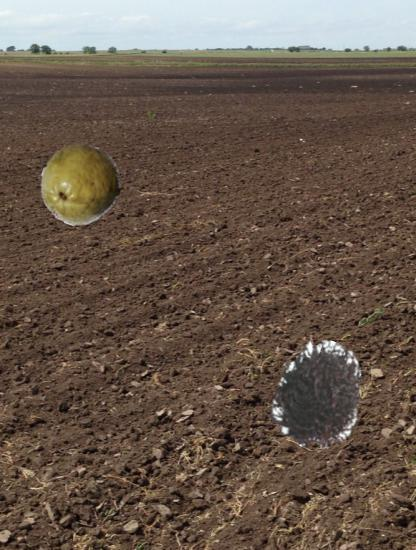Guava: (40, 144, 123, 227)
Rambutan: (266, 340, 376, 450)
